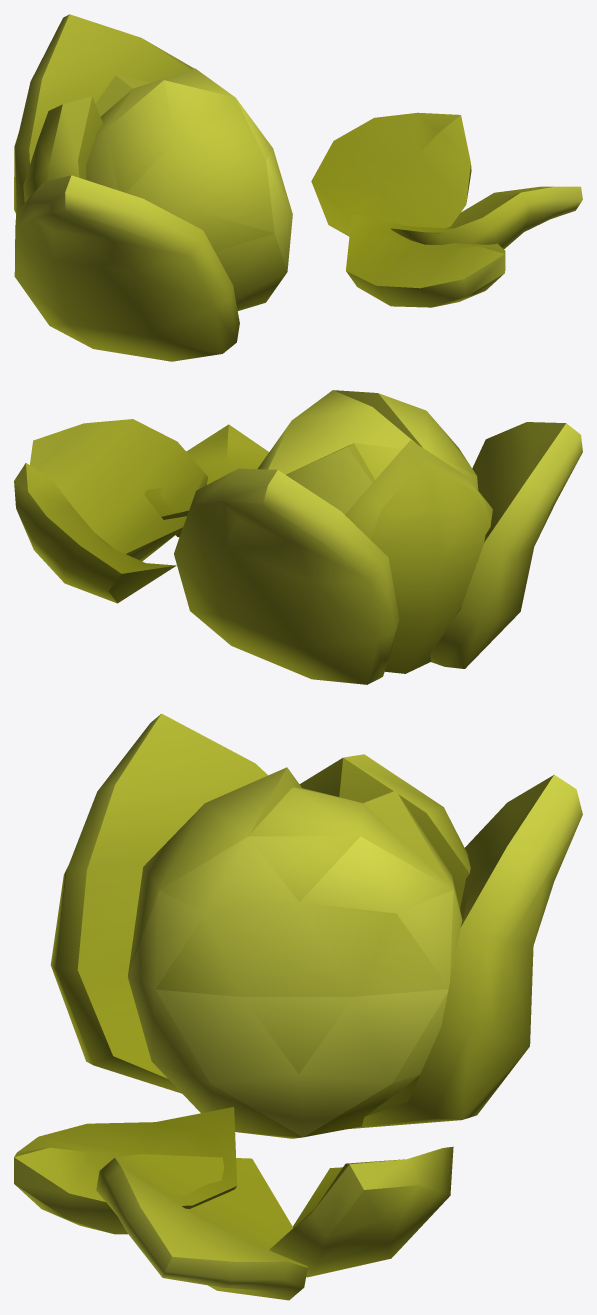
The model's file is kay-food_ingredient_lettuce_chopped.glb.
3 renders of one model, top to bottom at view 1: azimuth 30°, elevation 25°; view 2: azimuth 150°, elevation 25°; view 3: azimuth 270°, elevation 25°, orthographic. The views are drawn at different scales.
Visible parts, largest first — view 1: food_ingredient_lettuce_chopped; view 2: food_ingredient_lettuce_chopped; view 3: food_ingredient_lettuce_chopped.
Part boxes in pixels (<box>): food_ingredient_lettuce_chopped: <box>14,14,582,361</box>; food_ingredient_lettuce_chopped: <box>14,390,582,684</box>; food_ingredient_lettuce_chopped: <box>14,713,582,1300</box>.
Size of the model in its own units: 0.22 by 0.099 by 0.1482.
Materials: 1 (1 with a texture image).
